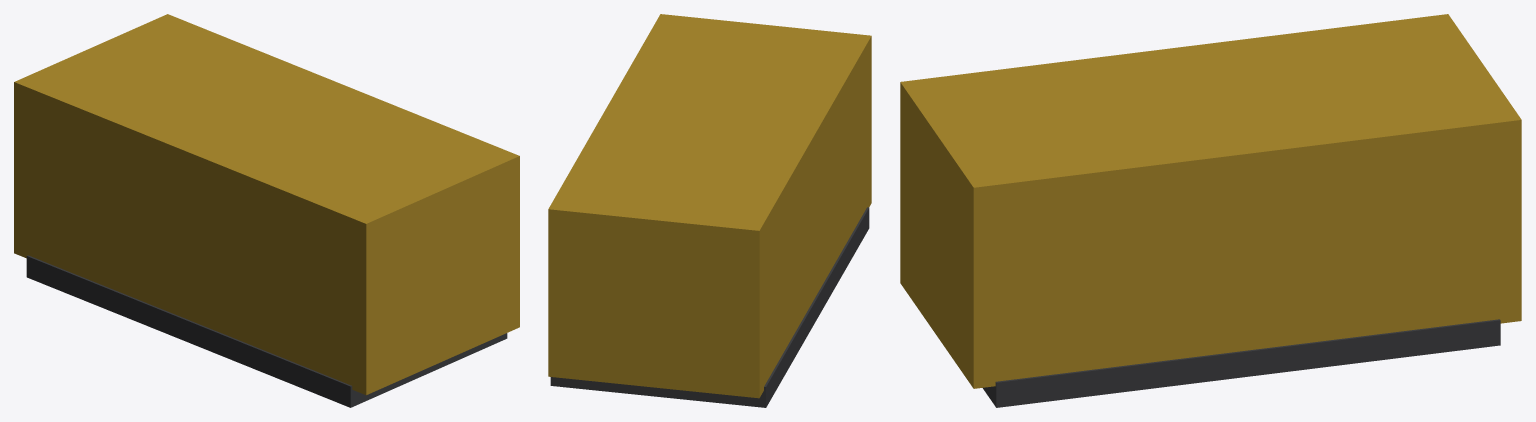
The model's file is sbgr_gse_loader.glb.
The picture shows the model from 3 angles, left to right: view 1: azimuth 30°, elevation 25°; view 2: azimuth 150°, elevation 25°; view 3: azimuth 270°, elevation 25°; orthographic projection. The views are drawn at different scales.
Visible parts, largest first — view 1: sbgr_gse_loader; view 2: sbgr_gse_loader; view 3: sbgr_gse_loader.
Part boxes in pixels (x1,y1,x2,y2): sbgr_gse_loader: [14, 14, 519, 407]; sbgr_gse_loader: [548, 14, 871, 407]; sbgr_gse_loader: [900, 14, 1521, 407].
Bounding box in the file's own units: 5.04 × 3 × 7.62.
